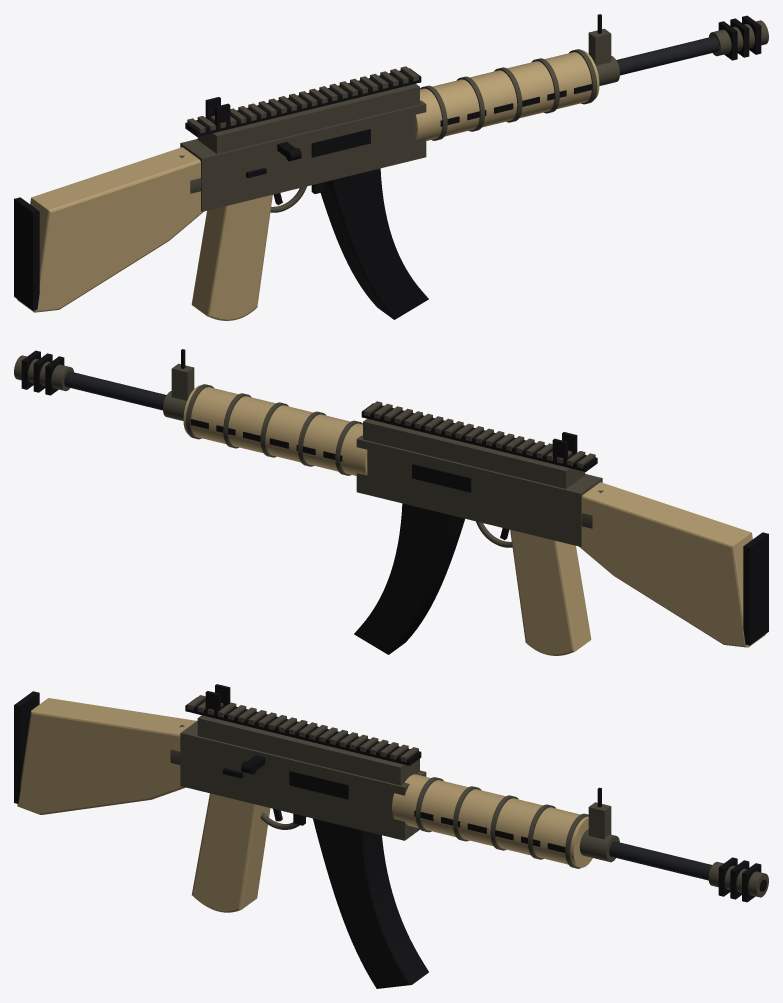
The model's file is M7Rifle.glb.
3 views of the same model, one above another, from view 1: azimuth 30°, elevation 25°; view 2: azimuth 150°, elevation 25°; view 3: azimuth 330°, elevation 25° (orthographic).
Parts seen in each view (by area): view 1: Rifle; view 2: Rifle; view 3: Rifle.
Boxes of the visible parts, bbox=[...] form: Rifle: bbox=[14, 14, 768, 320]; Rifle: bbox=[14, 349, 768, 655]; Rifle: bbox=[14, 684, 768, 988].
Size of the model in its own units: 13.86 by 4.51 by 1.26.
